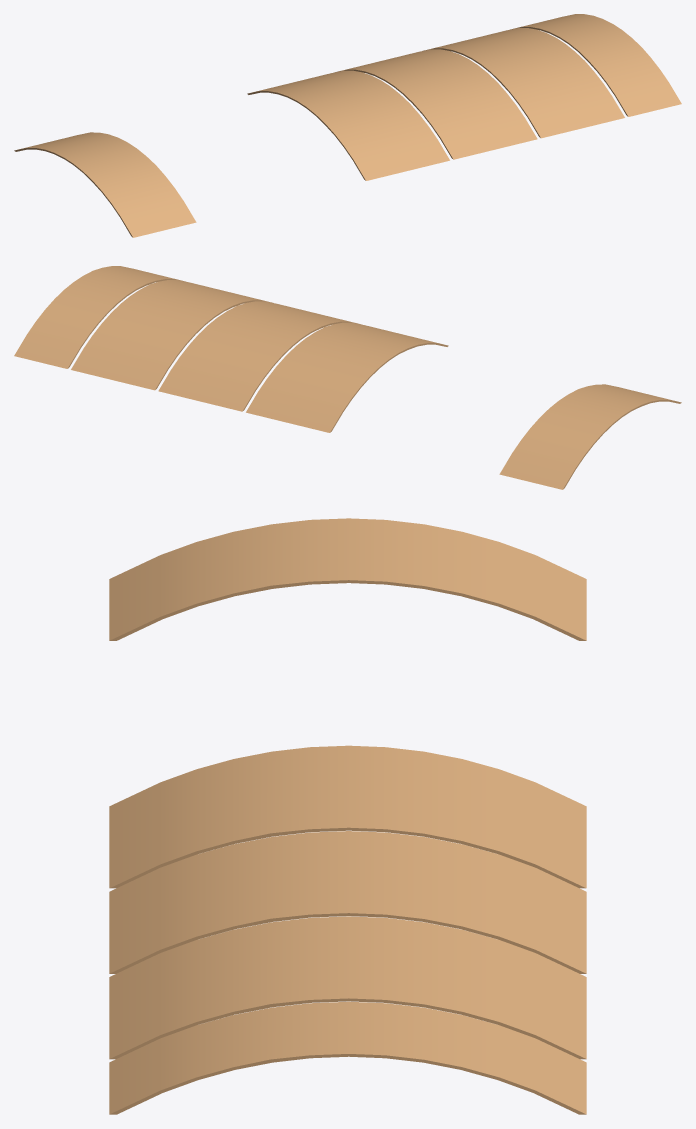
Rendered from RoofGlass01.fbx.
3 renders of one model, top to bottom at view 1: azimuth 30°, elevation 25°; view 2: azimuth 150°, elevation 25°; view 3: azimuth 270°, elevation 25°, orthographic. The views are drawn at different scales.
Visible parts, largest first — view 1: Glass01; view 2: Glass01; view 3: Glass01.
Boxes of the visible parts, x1,y1,x2,y2 form: Glass01: (14,14,681,237); Glass01: (14,266,681,489); Glass01: (109,518,586,1114).
Size of the model in its own units: 3231 by 171 by 1218.
